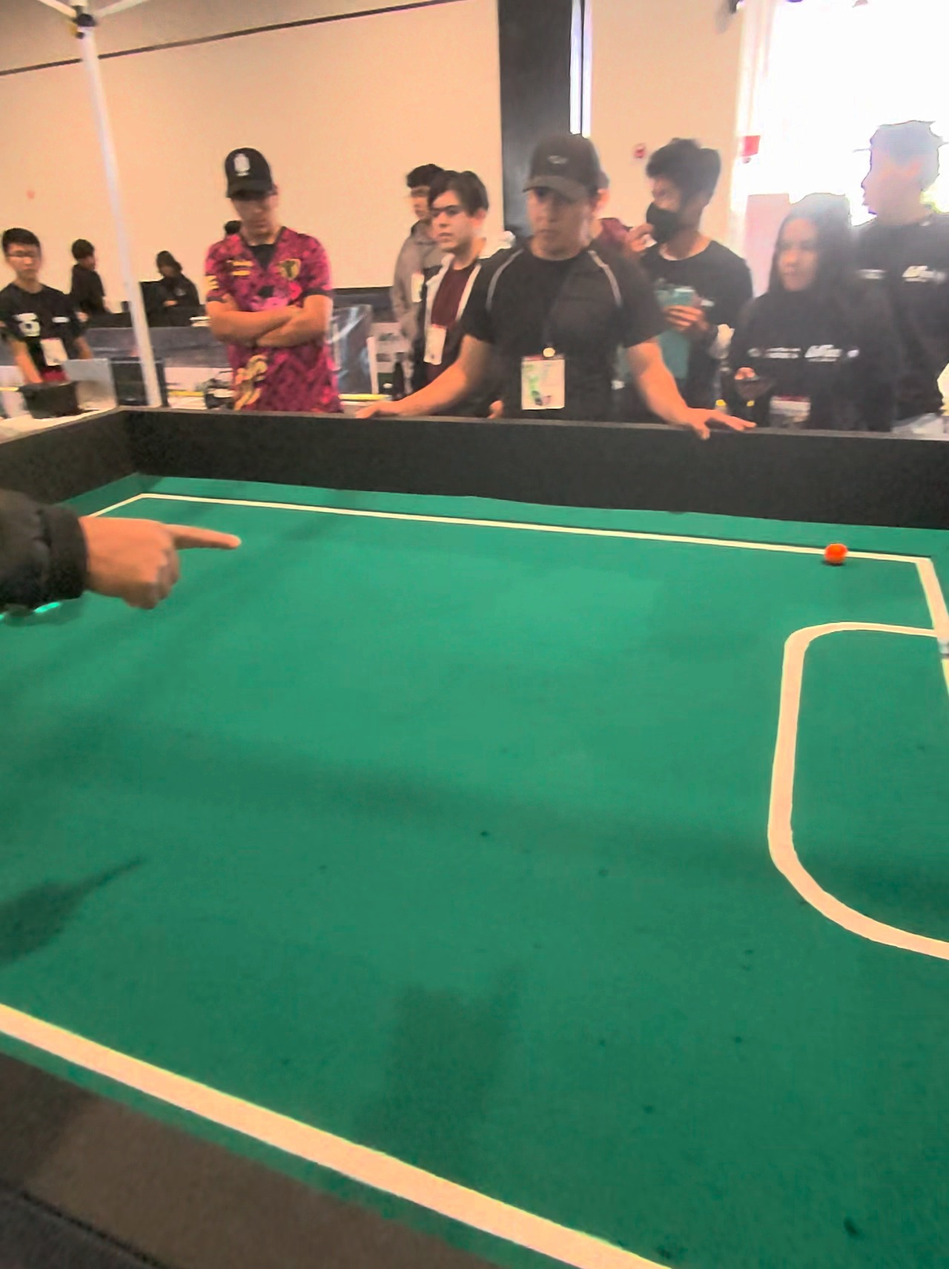pelota: (818, 538, 855, 575)
